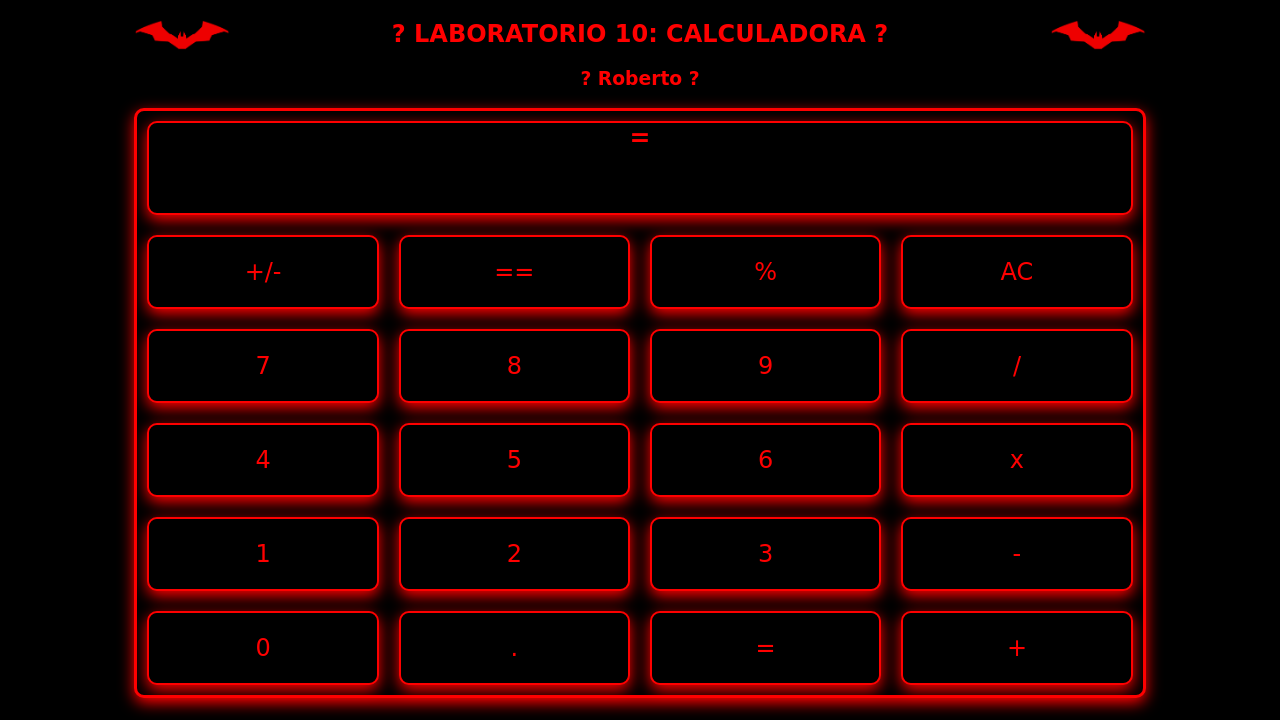
Test case: tests para la calculadora › introducir la operacion 10 + 10 =, depliga 20 en h3#result
This screenshot has width=1280, height=720.
Click the button "1".
click(263, 554)  # box [149,518,377,588]
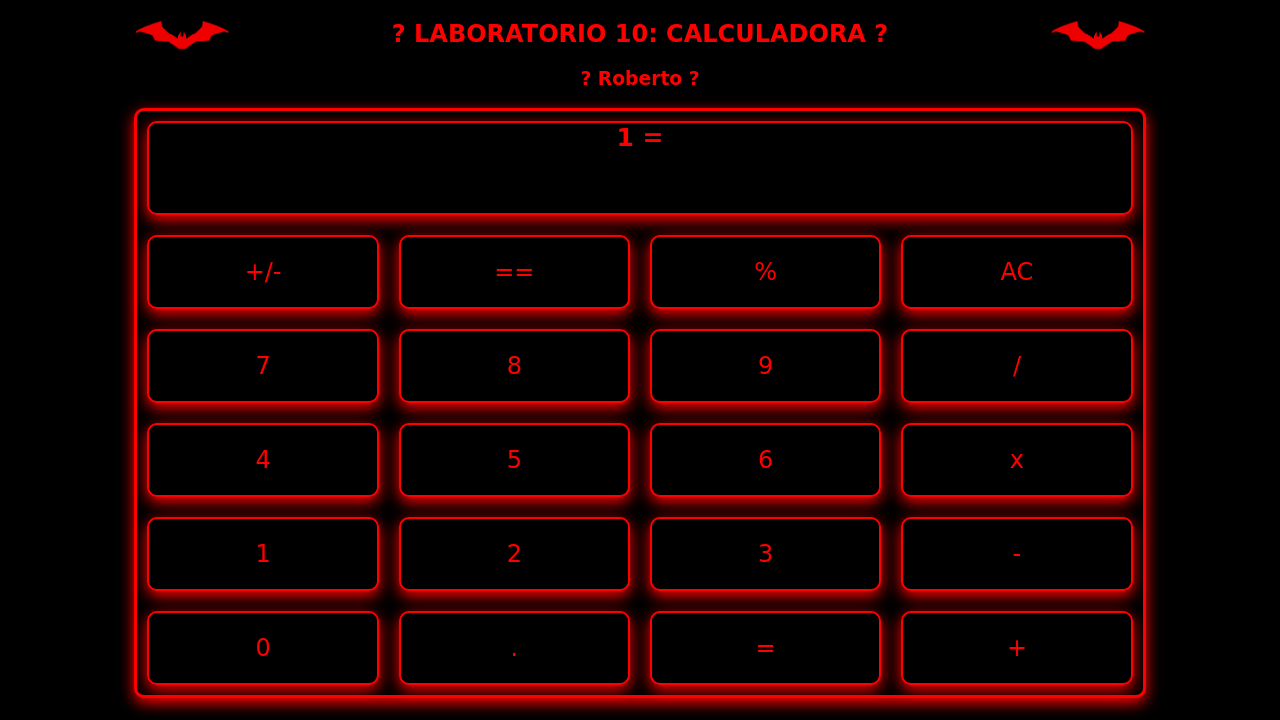
Click the button "0".
click(263, 648)  # box [149,612,377,682]
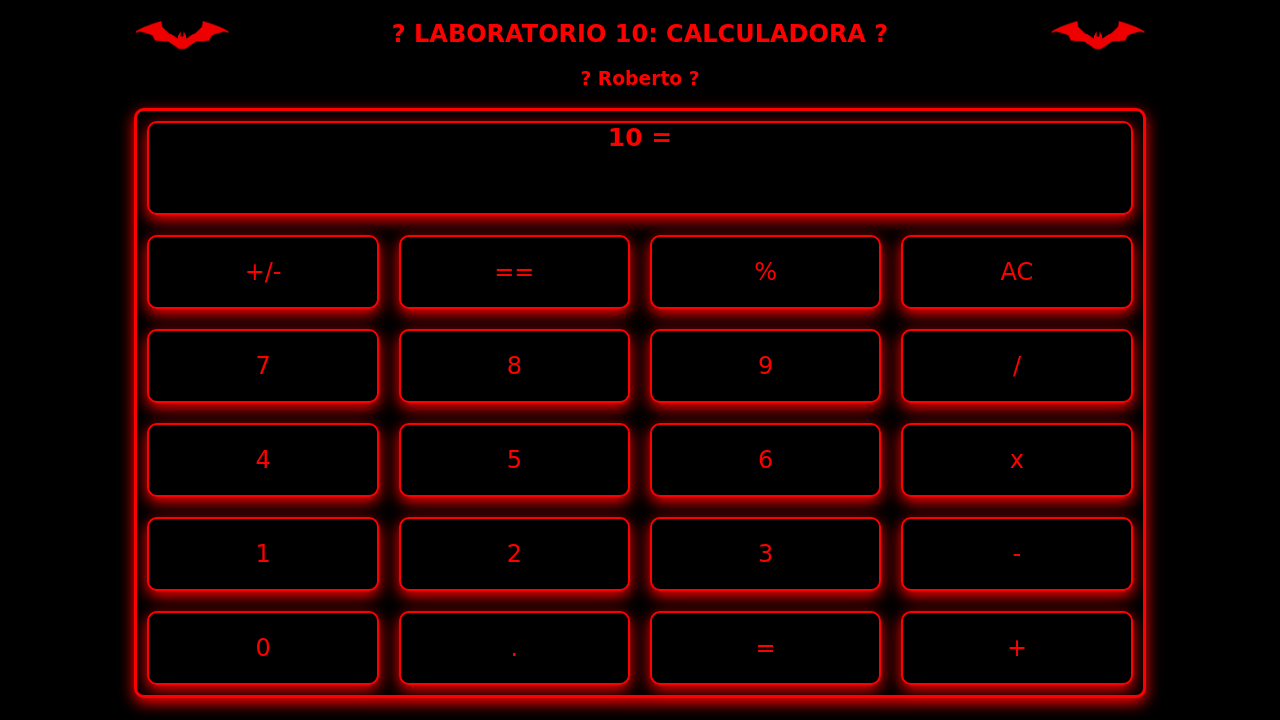
Click the button "+".
click(1017, 648)  # box [903,612,1131,682]
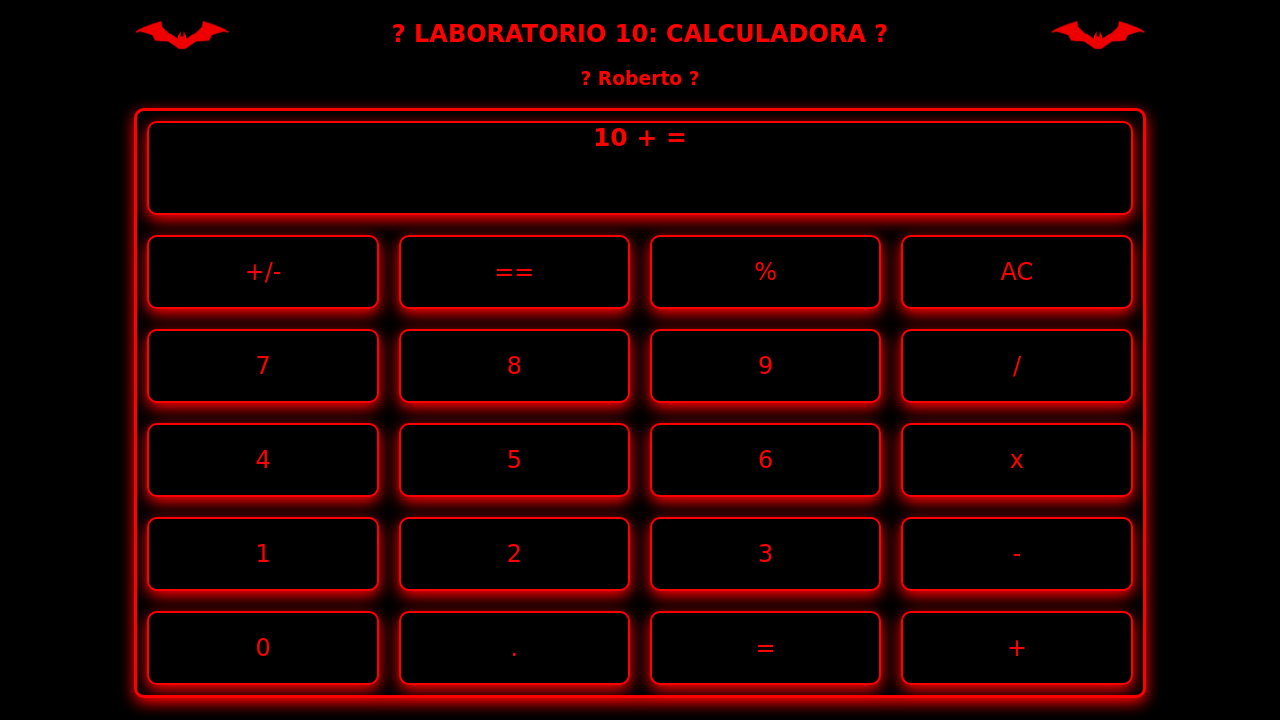
Click the button "1".
click(263, 554)  # box [149,518,377,588]
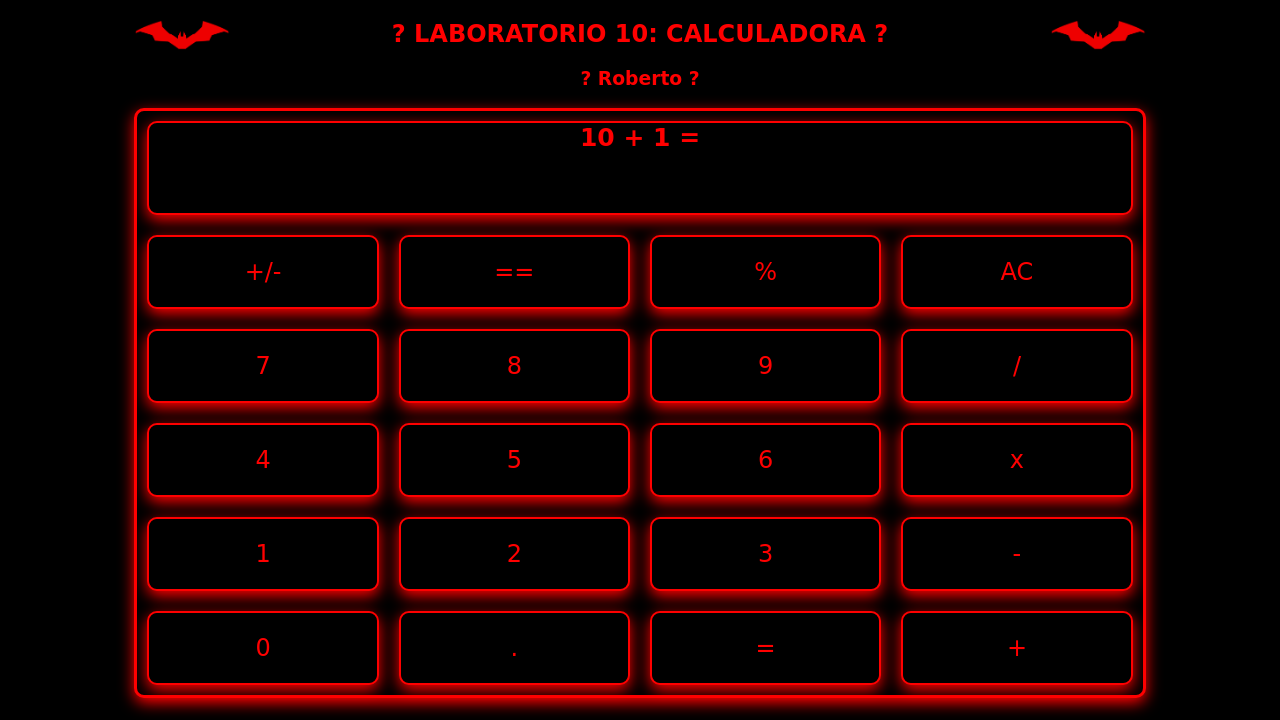
Click the button "0".
click(263, 648)  # box [149,612,377,682]
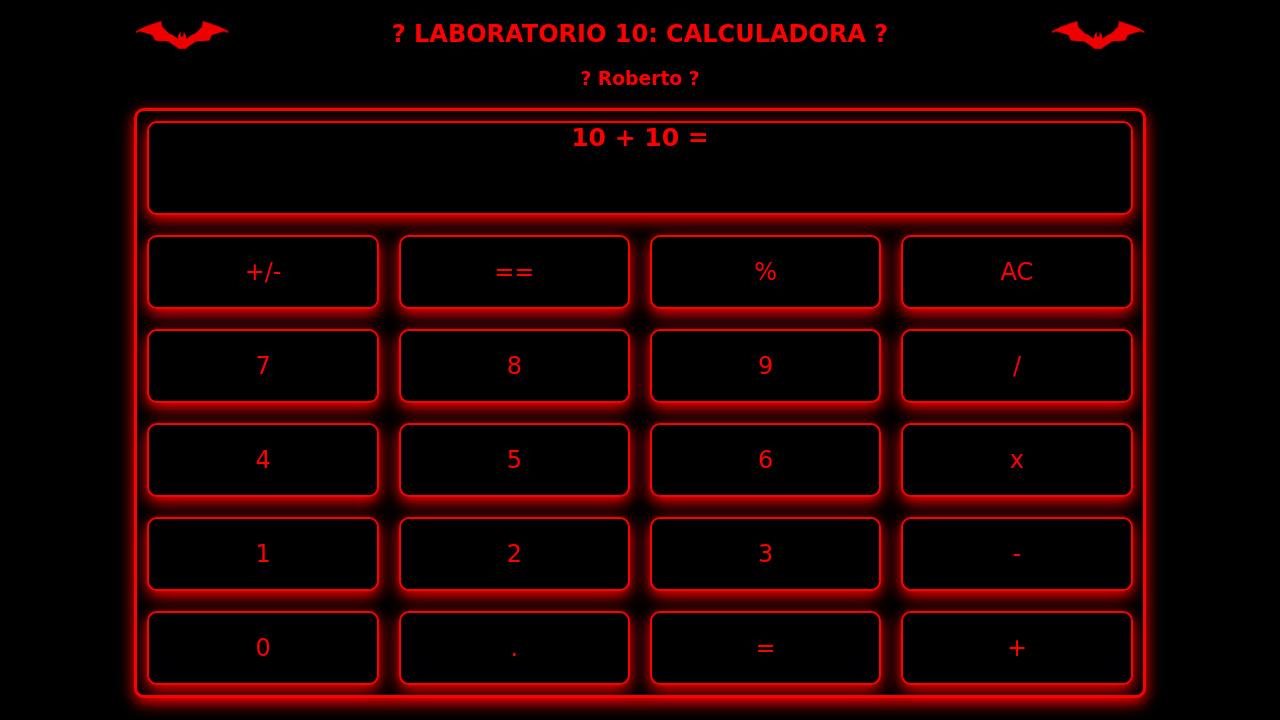
Click the button "=".
click(766, 648)  # box [652,612,879,682]
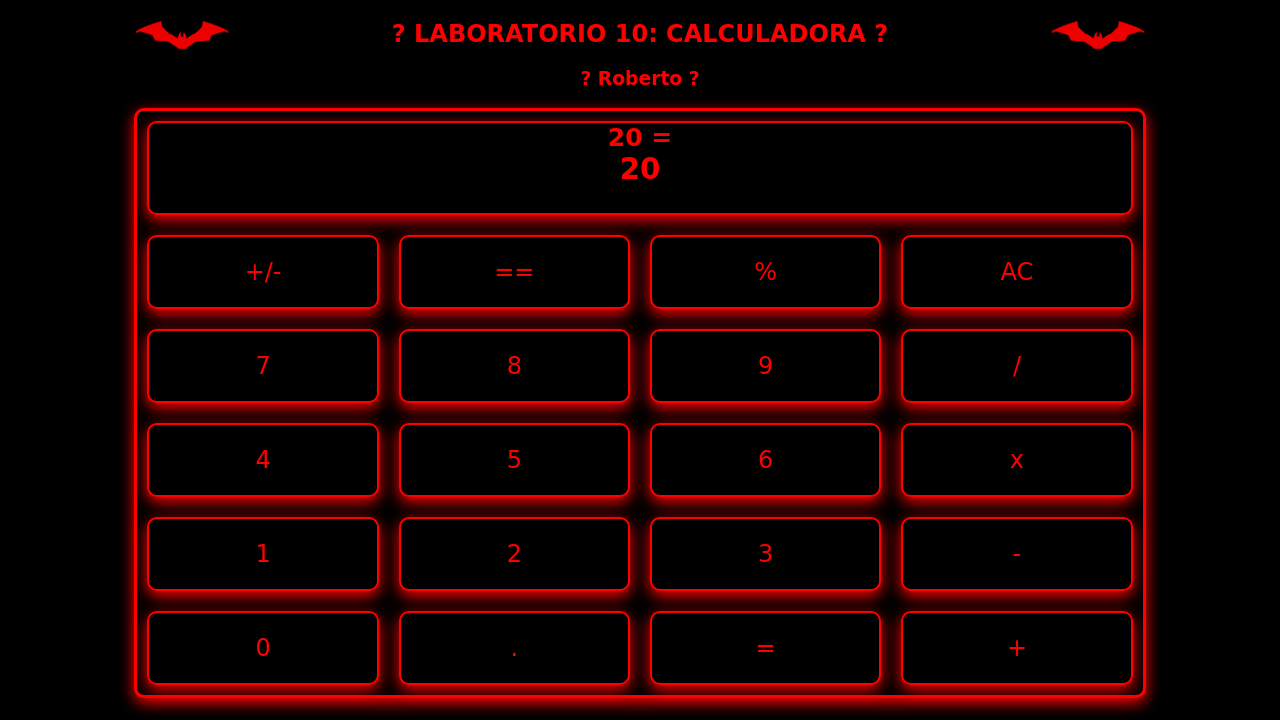
Result: the heading with test id "result" reads "20" at [620,152,660,186]
